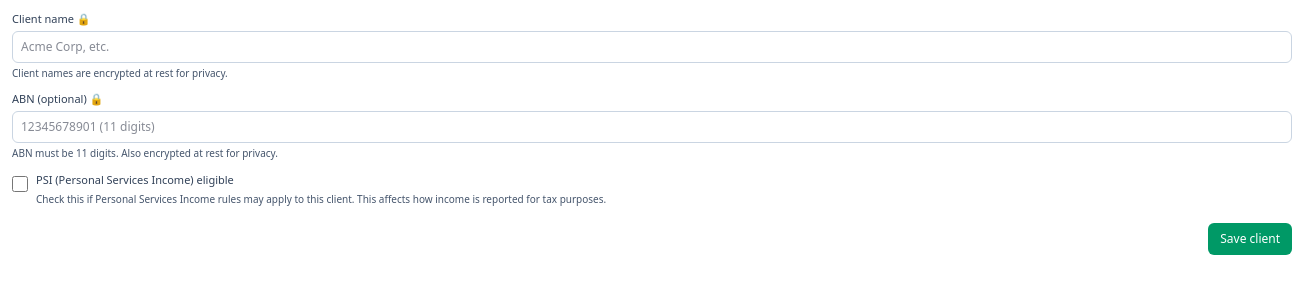
Test case: ClientForm › validates required client name
Click the button "Save client" at (1250, 240), box [1208,224,1292,256]
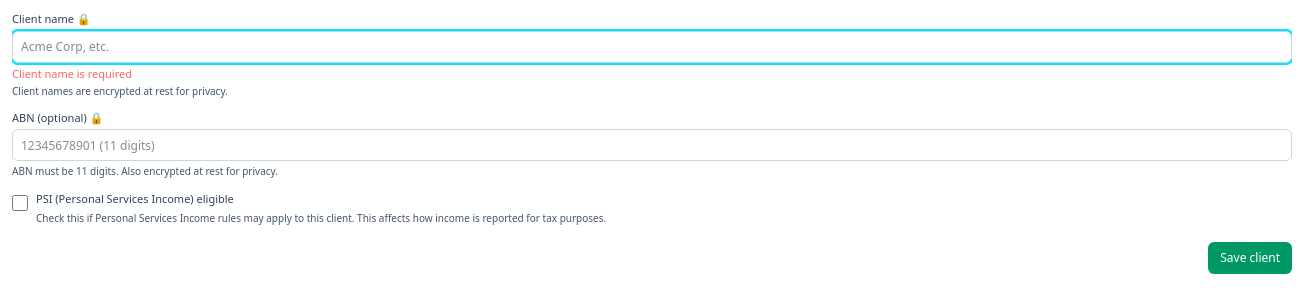
Now the text "Client name is required" is shown, box [12,66,132,81]
